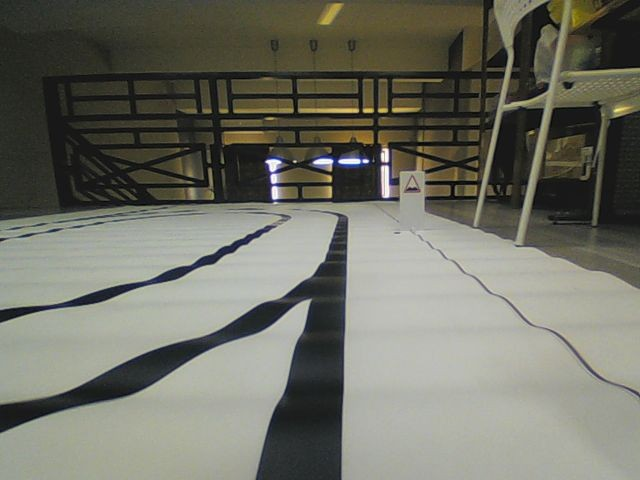Nerov: (402, 173, 421, 194)
